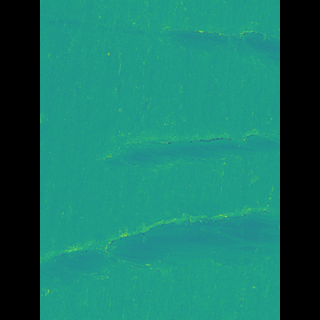Loch: (71, 204, 251, 299), (71, 1, 250, 75), (111, 125, 249, 179)
